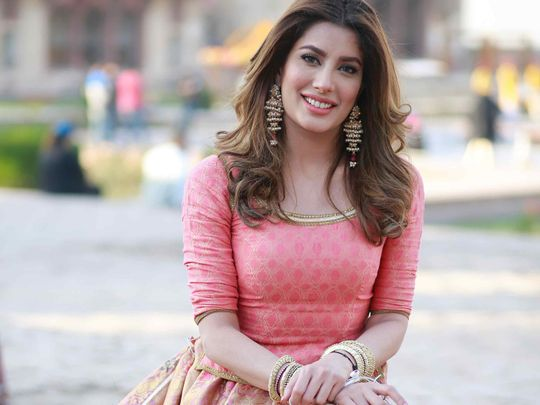NoMask: (292, 39, 361, 134)
